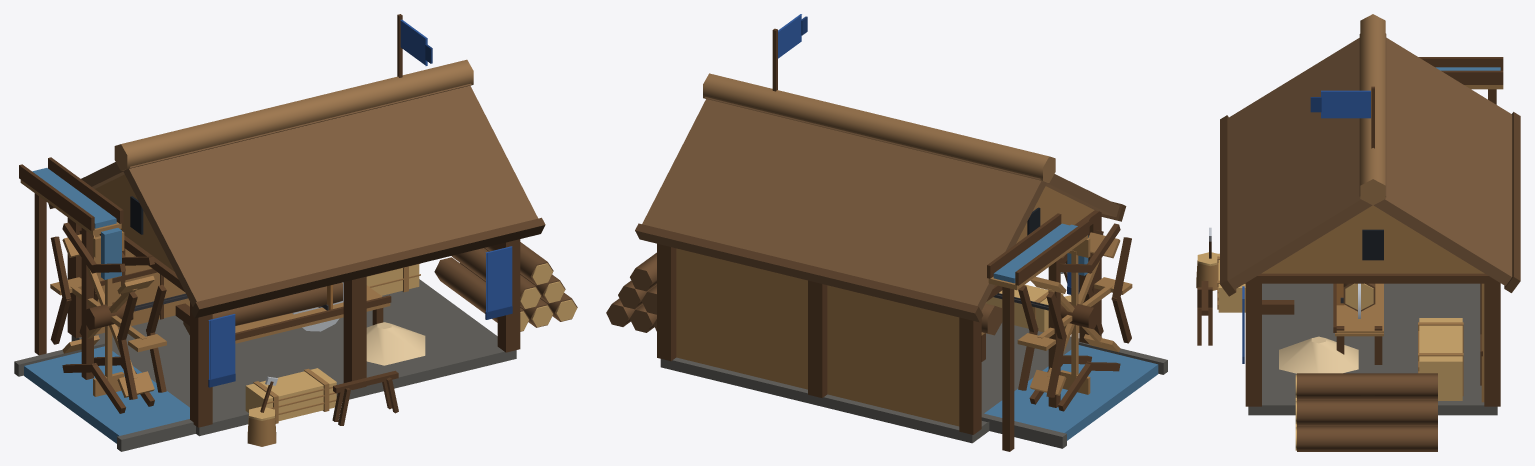
File: sawmill.glb
3 renders of one model, left to right at view 1: azimuth 30°, elevation 25°; view 2: azimuth 150°, elevation 25°; view 3: azimuth 270°, elevation 25°, orthographic. The views are drawn at different scales.
Visible parts, largest first — view 1: sawmill; view 2: sawmill; view 3: sawmill.
Boxes of the visible parts, x1,y1,x2,y2 form: sawmill: (14, 14, 577, 451); sawmill: (606, 14, 1167, 451); sawmill: (1196, 14, 1520, 451).
Size of the model in its own units: 9.94 by 6.16 by 5.98.
Materials: 1 (1 with a texture image).
